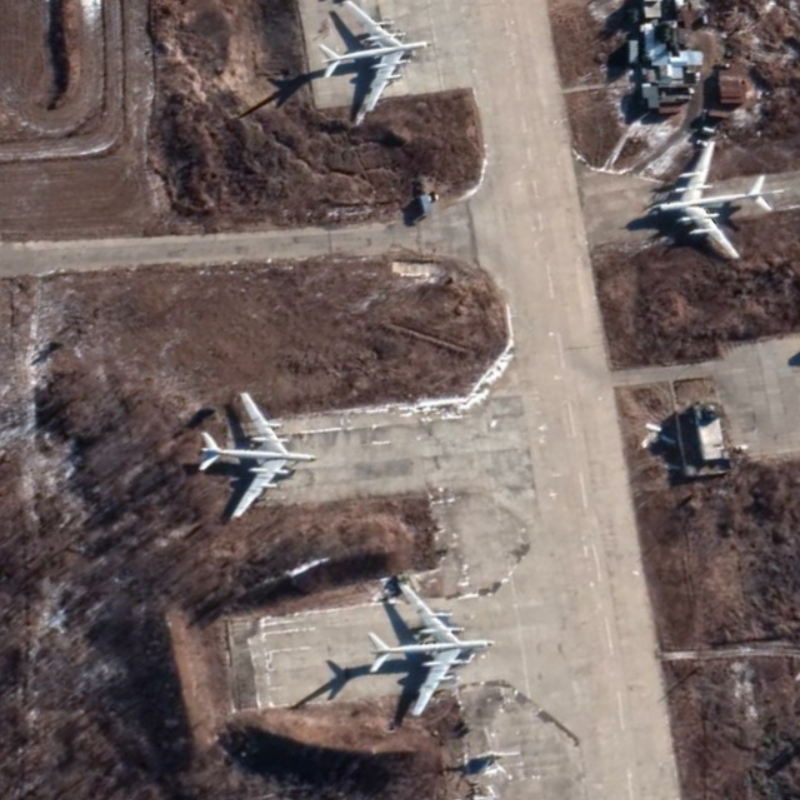A17: (363, 578, 498, 720), (642, 138, 780, 264), (194, 389, 320, 520), (313, 1, 434, 129)
